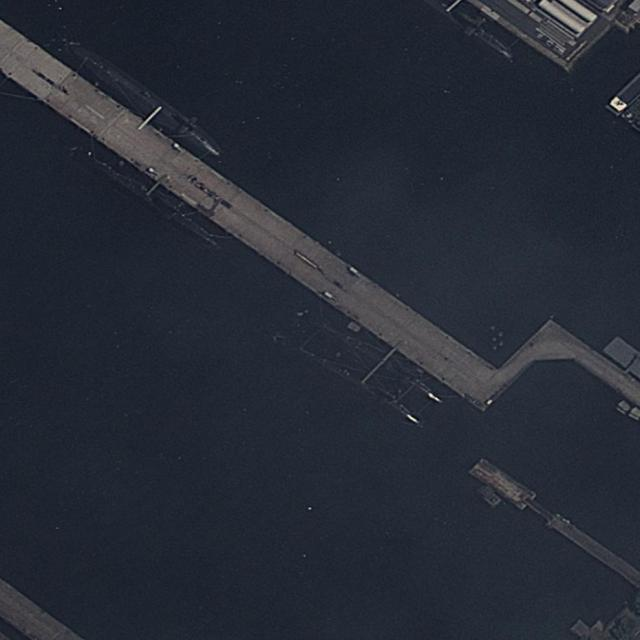Submarine: (56, 127, 229, 253), (61, 35, 225, 164), (311, 314, 446, 405), (288, 336, 423, 427)
